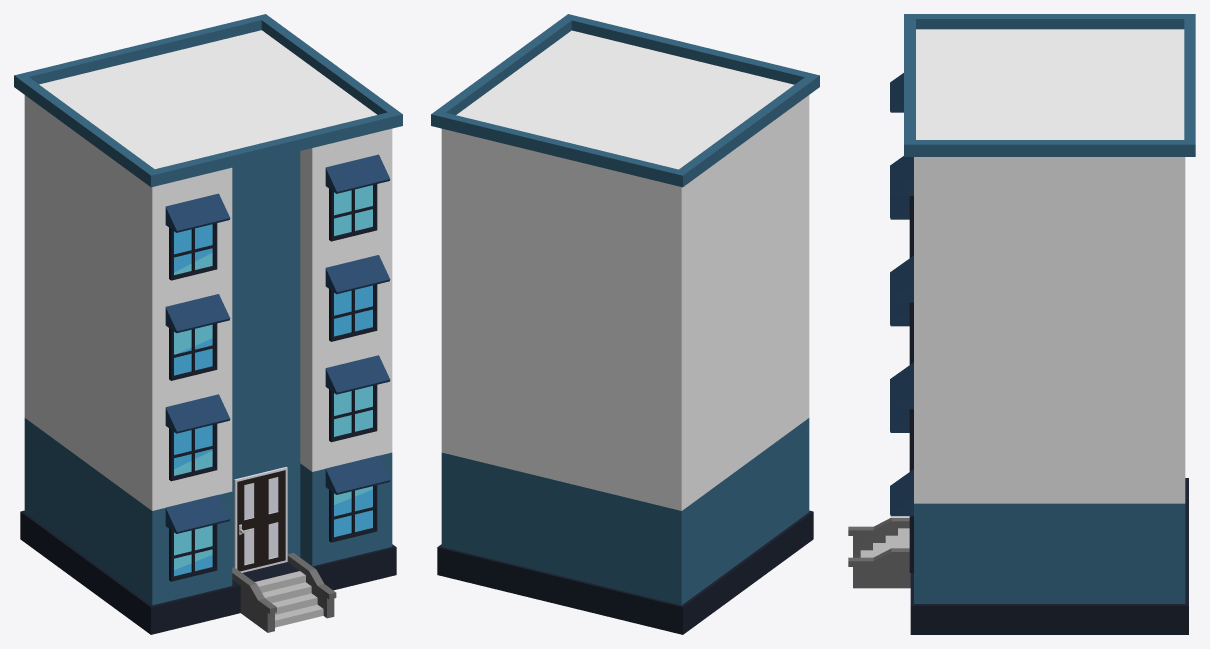
File: Env_Motel_04.fbx
3 renders of one model, left to right at view 1: azimuth 30°, elevation 25°; view 2: azimuth 150°, elevation 25°; view 3: azimuth 270°, elevation 25°, orthographic. The views are drawn at different scales.
Parts seen in each view (by area): view 1: Env_Motel_04; view 2: Env_Motel_04; view 3: Env_Motel_04.
Boxes of the visible parts, x1,y1,x2,y2 form: Env_Motel_04: (14, 14, 402, 634); Env_Motel_04: (431, 14, 819, 634); Env_Motel_04: (848, 14, 1195, 634).
Size of the model in its own units: 593 by 1040 by 665.
Materials: 1 (1 with a texture image).
